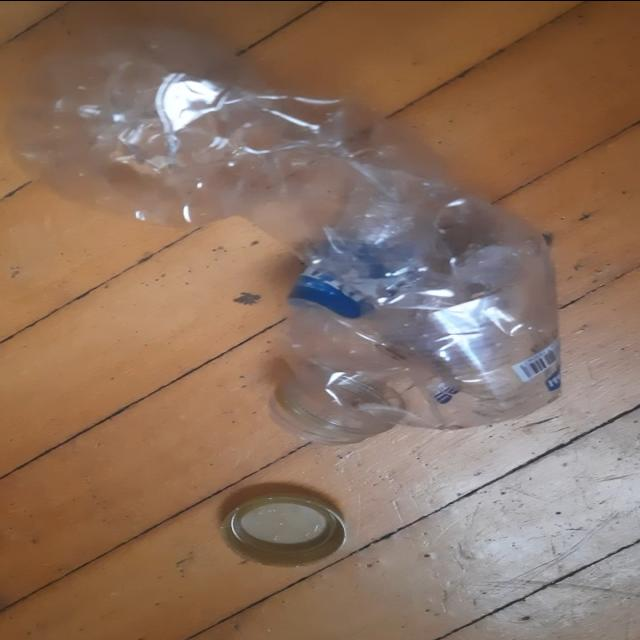Plastic: (2, 21, 564, 439)
